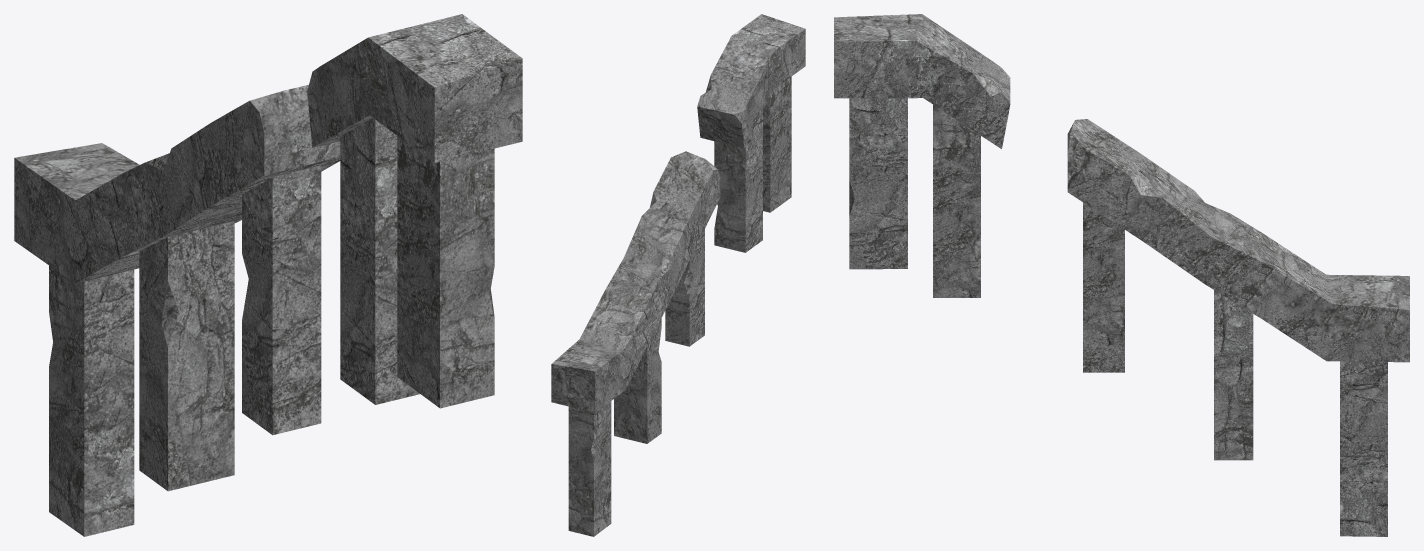
Rendered from materials_3_handrail_7.fbx.
3 views of the same model, side by side, from view 1: azimuth 30°, elevation 25°; view 2: azimuth 150°, elevation 25°; view 3: azimuth 270°, elevation 25° (orthographic). The views are drawn at different scales.
Visible parts, largest first — view 1: materials_3_handrail_7; view 2: materials_3_handrail_7; view 3: materials_3_handrail_7.
Boxes of the visible parts, x1,y1,x2,y2 form: materials_3_handrail_7: (14, 14, 522, 536); materials_3_handrail_7: (551, 14, 805, 536); materials_3_handrail_7: (834, 14, 1409, 536).
Bounding box in the file's own units: 22.71 × 177 × 184.
